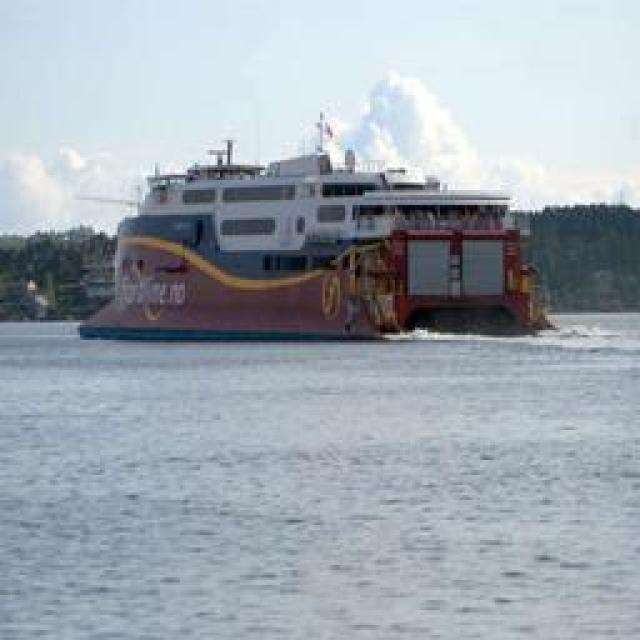ship2: (77, 114, 556, 341)
